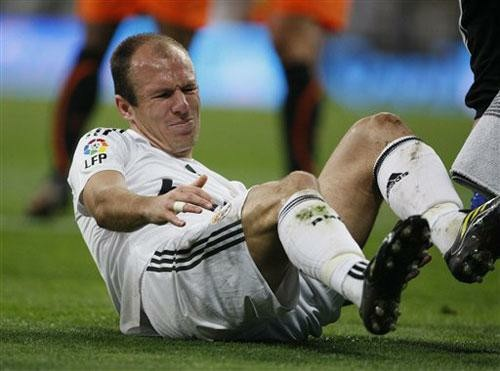falling: (43, 22, 464, 351)
